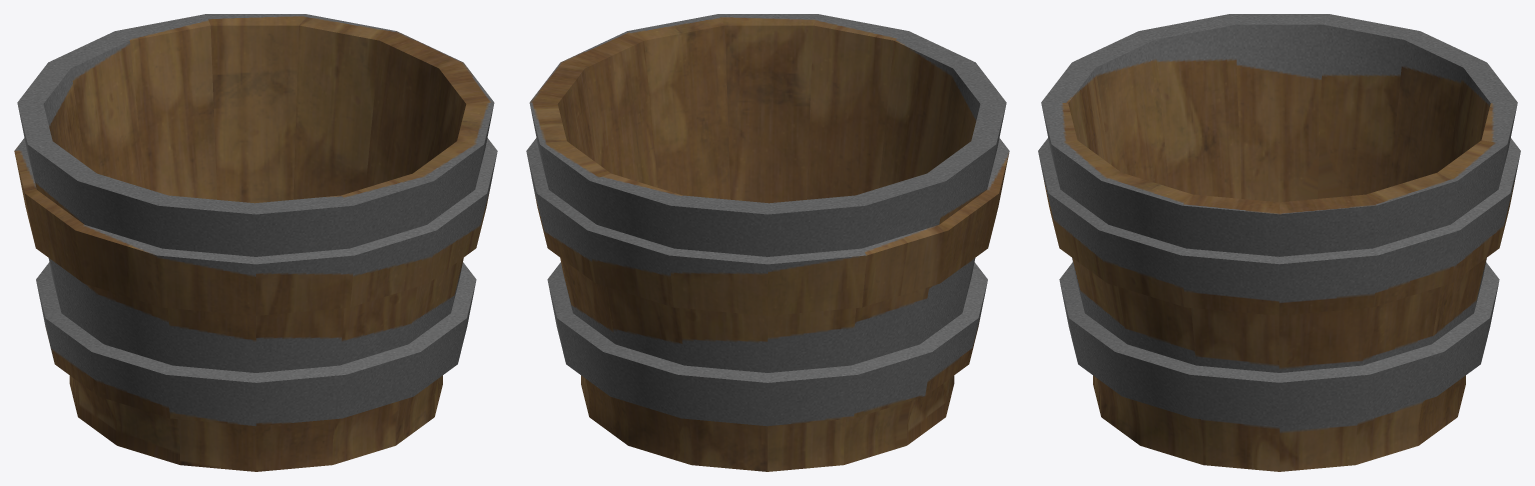
File: Bucket.fbx
3 views of the same model, side by side, from view 1: azimuth 30°, elevation 25°; view 2: azimuth 150°, elevation 25°; view 3: azimuth 270°, elevation 25° (orthographic).
Visible parts, largest first — view 1: Bucket; view 2: Bucket; view 3: Bucket.
Boxes of the visible parts, <box> form: Bucket: <box>14,14,497,471</box>; Bucket: <box>526,14,1009,471</box>; Bucket: <box>1038,14,1520,471</box>.
Bounding box in the file's own units: 0.765 × 0.4911 × 0.7692.
1 material, 1 textured.
